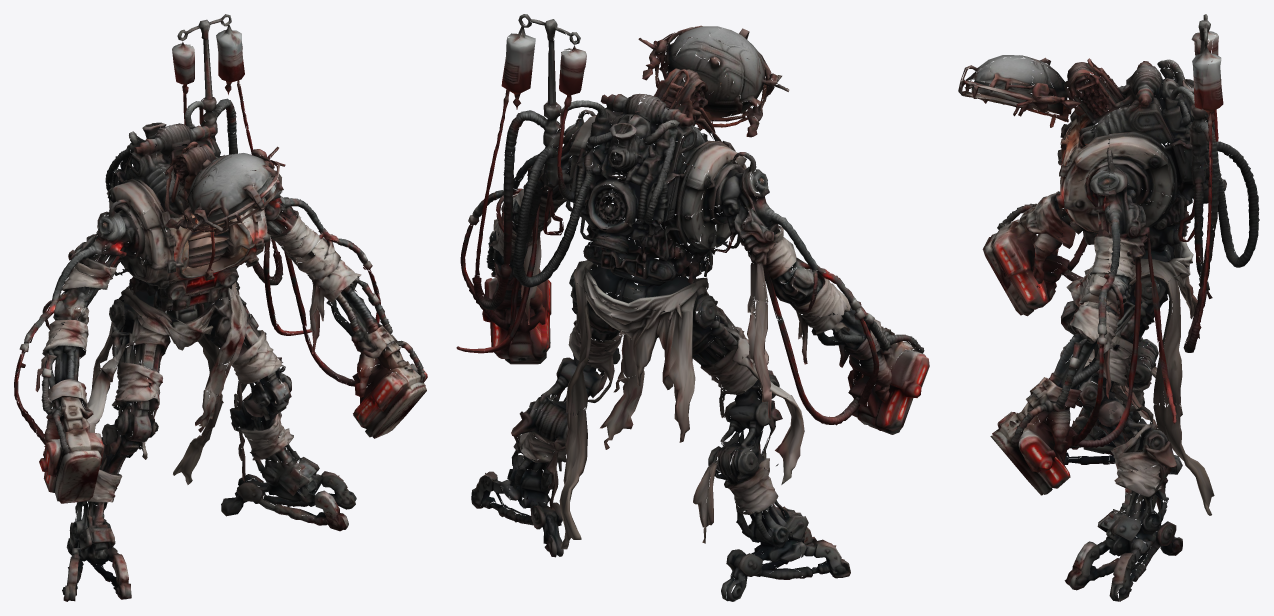
File: hb_ward.glb
3 views of the same model, side by side, from view 1: azimuth 30°, elevation 25°; view 2: azimuth 150°, elevation 25°; view 3: azimuth 270°, elevation 25° (orthographic). The views are drawn at different scales.
Visible parts, largest first — view 1: world; view 2: world; view 3: world.
Boxes of the visible parts, x1,y1,x2,y2 form: world: (14,14,427,601); world: (456,14,929,601); world: (958,14,1259,601).
Size of the model in its own units: 0.8235 by 1 by 0.516.
Materials: 1 (1 with a texture image).
